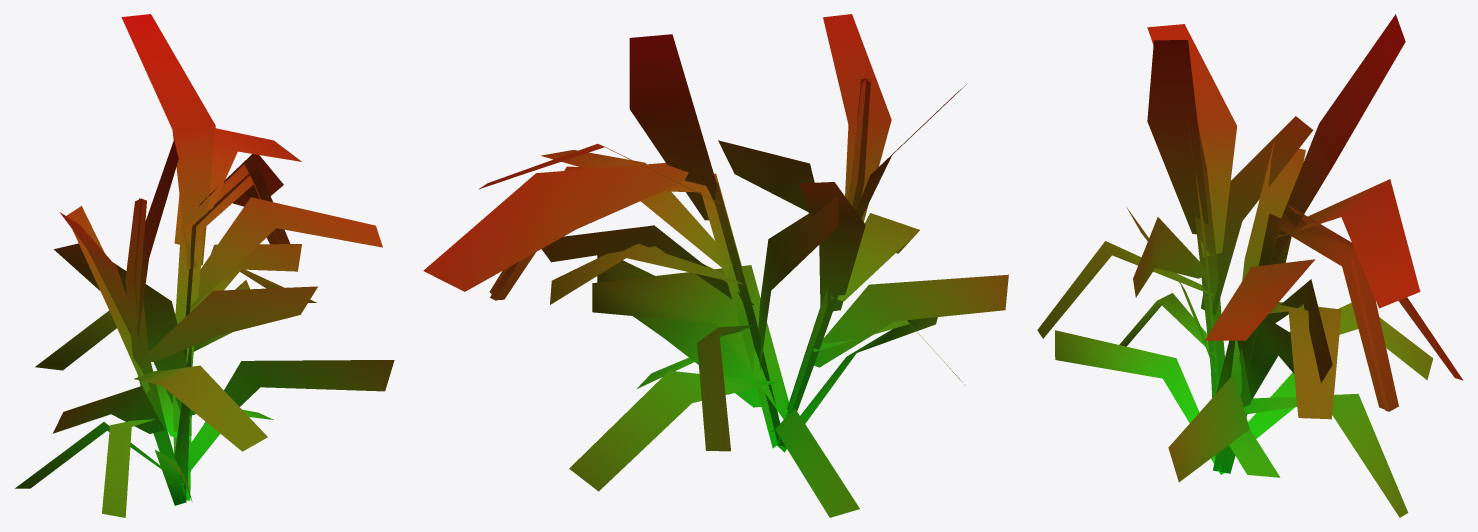
The model's file is Var8_LOD3.fbx.
3 renders of one model, left to right at view 1: azimuth 30°, elevation 25°; view 2: azimuth 150°, elevation 25°; view 3: azimuth 270°, elevation 25°, orthographic. The views are drawn at different scales.
Parts seen in each view (by area): view 1: _4c95_Var8_LOD3; view 2: _4c95_Var8_LOD3; view 3: _4c95_Var8_LOD3.
Part boxes in pixels (box(x1,y1,x2,y2)): _4c95_Var8_LOD3: box(15, 14, 394, 517); _4c95_Var8_LOD3: box(423, 14, 1008, 517); _4c95_Var8_LOD3: box(1037, 14, 1463, 517).
Bounding box in the file's own units: 30.03 × 32.44 × 26.58.
